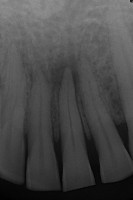Furcation Involvement: (50, 54, 80, 96)
